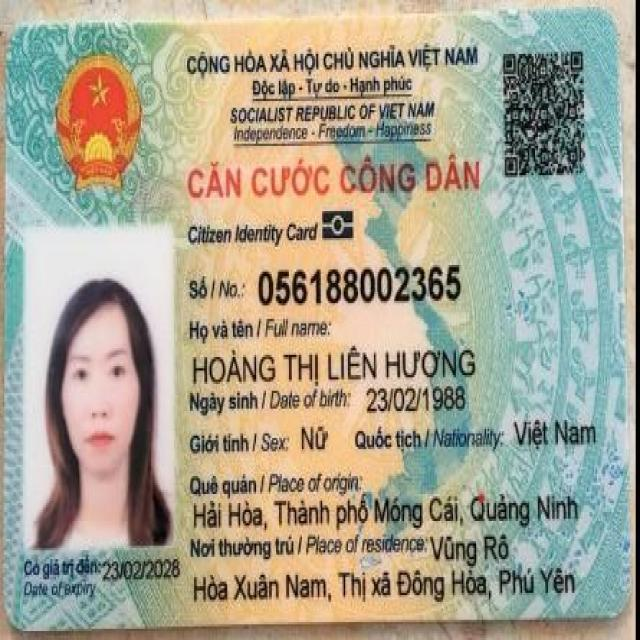current_place: (190, 566, 578, 604), (429, 532, 511, 566)
dob: (364, 382, 469, 413)
expire_date: (101, 557, 183, 584)
gender: (298, 422, 329, 454)
id: (256, 263, 469, 310)
name: (190, 344, 479, 384)
nationality: (512, 415, 598, 451)
origin_place: (191, 492, 582, 530)
